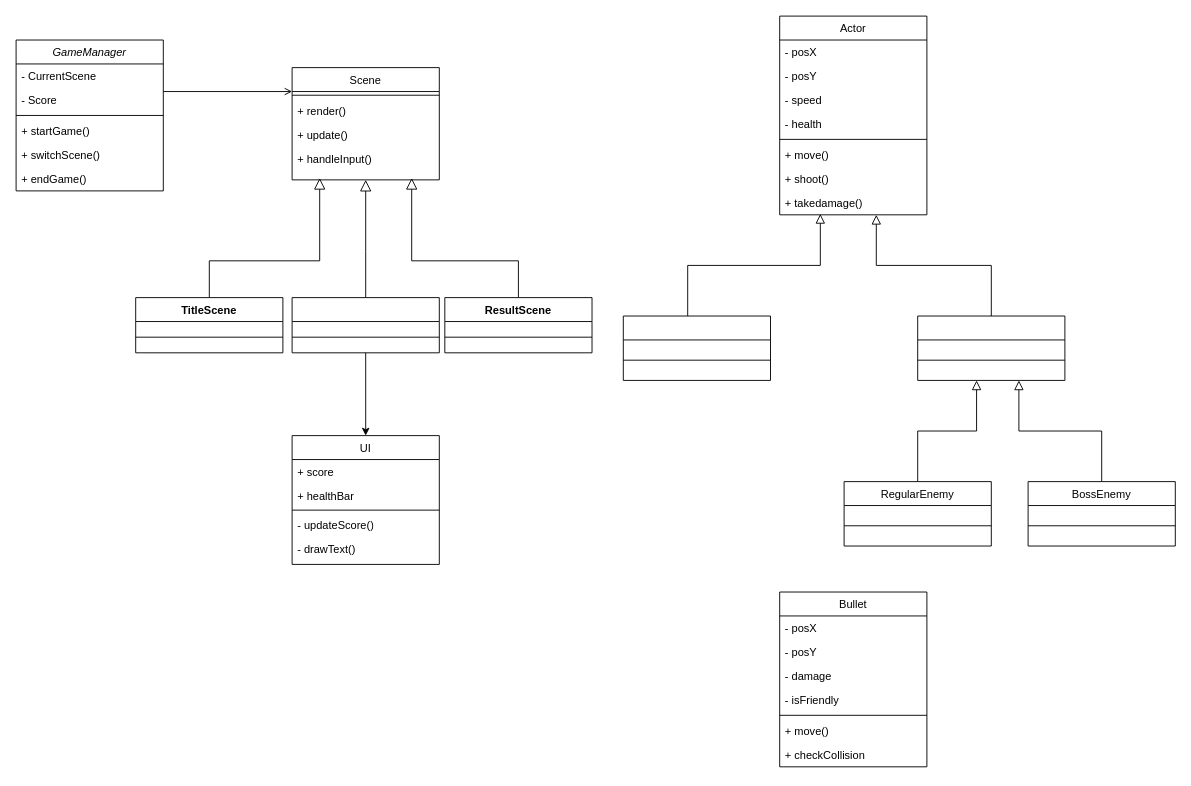
Some shapes in this 1191 by 786 pixel diagram are drawn without their labels. The shapes that lost their labels are listed below. From the top down, each one's centre as x and y in pixels, then its label:
point (365, 325): GameScene
point (696, 347): PlayerPlane
point (991, 347): EnemyPlane
